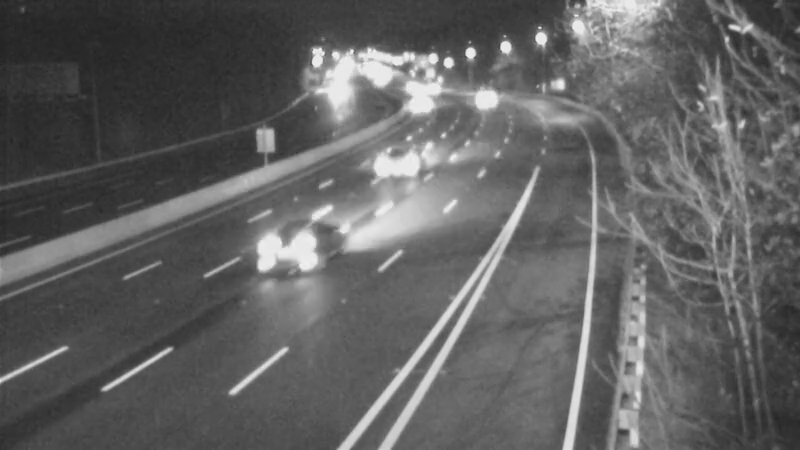vehicle: (355, 127, 435, 207), (247, 217, 327, 297), (460, 71, 510, 121), (392, 82, 442, 132)
